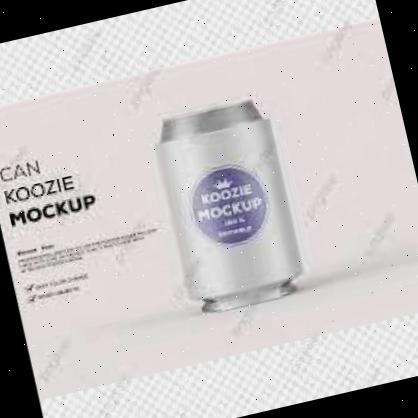can: (142, 89, 315, 322)
